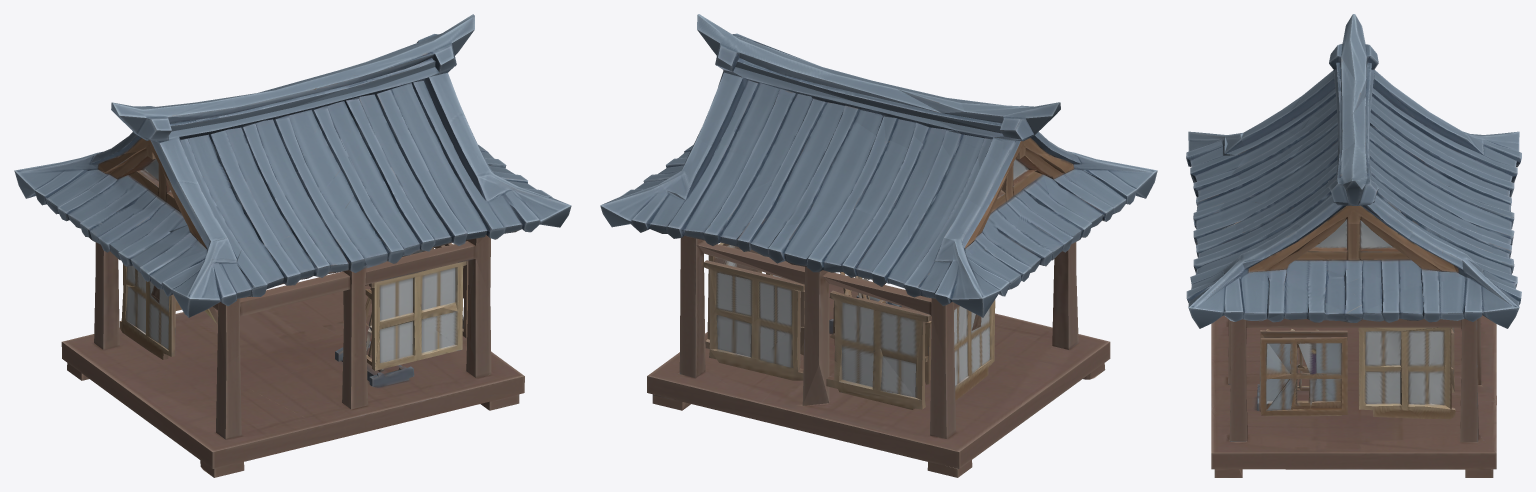
File: dojo.glb
3 renders of one model, left to right at view 1: azimuth 30°, elevation 25°; view 2: azimuth 150°, elevation 25°; view 3: azimuth 270°, elevation 25°, orthographic. The views are drawn at different scales.
Visible parts, largest first — view 1: dojo; view 2: dojo; view 3: dojo.
Part boxes in pixels (x1=…): dojo: x1=14, y1=14, x2=571, y2=477; dojo: x1=600, y1=14, x2=1157, y2=477; dojo: x1=1186, y1=14, x2=1521, y2=477.
Bounding box in the file's own units: 8.52 × 7 × 6.87.
Materials: 1 (1 with a texture image).
